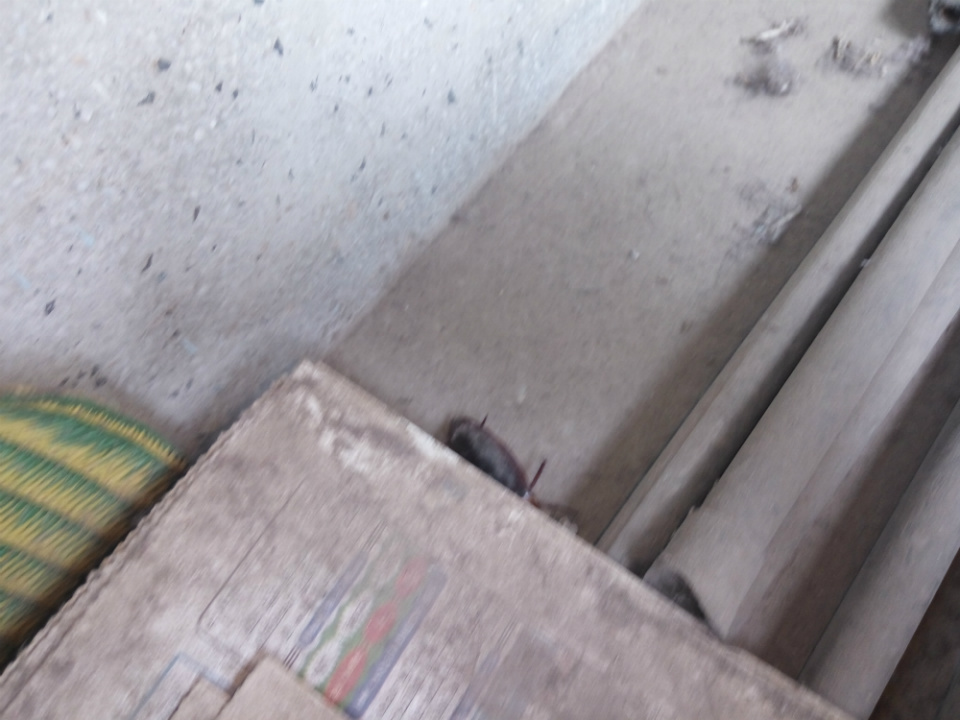cockroach: (398, 367, 579, 509)
